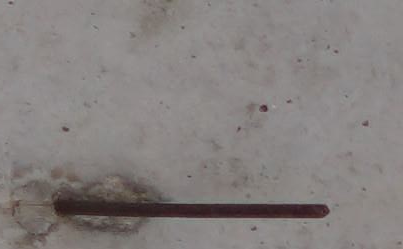Exposed reinforcement: (53, 199, 330, 219)
Spalling: (10, 173, 156, 237)
